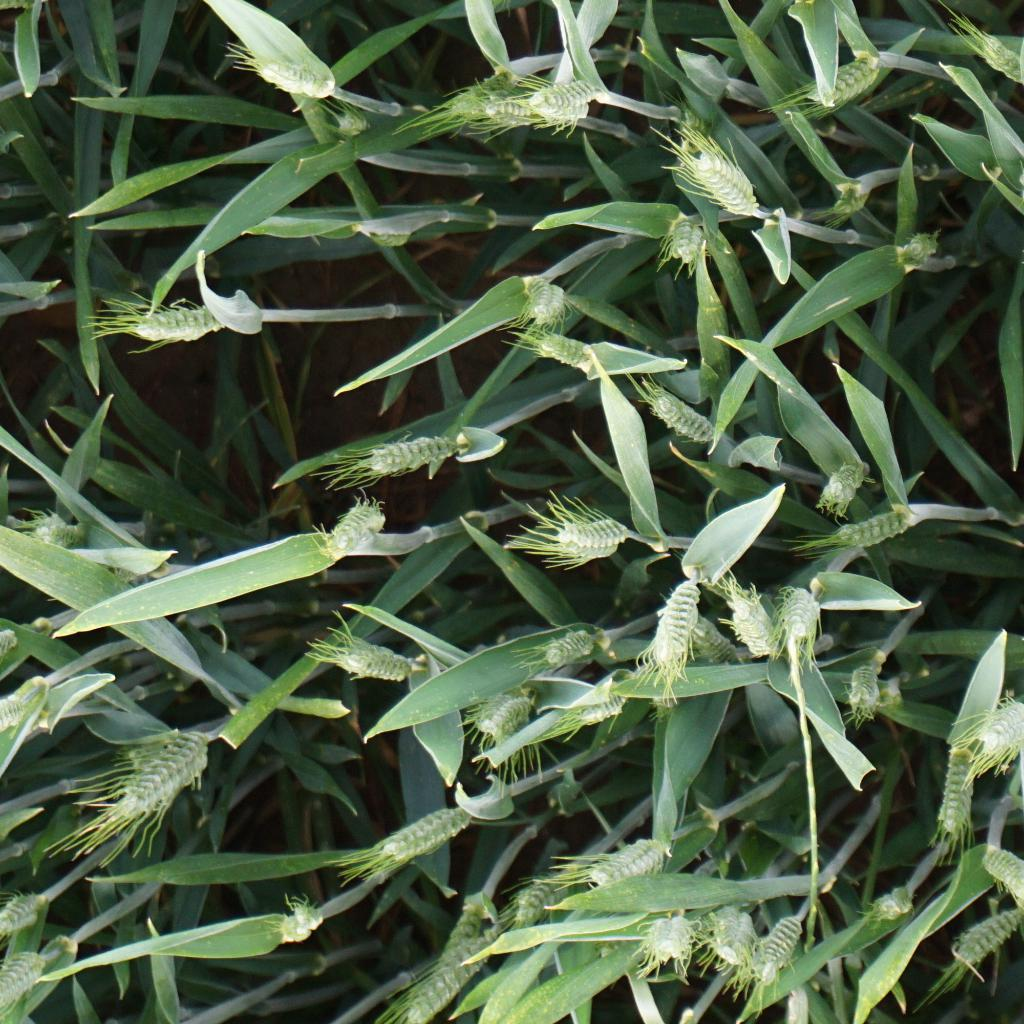0-0: (401, 919, 509, 1024), (103, 720, 206, 826), (673, 135, 770, 223), (233, 36, 343, 105), (800, 502, 945, 553), (352, 428, 478, 483), (438, 61, 532, 133), (113, 300, 249, 348), (381, 803, 482, 867), (650, 574, 703, 684), (795, 54, 887, 115), (636, 384, 725, 447), (507, 323, 607, 374), (327, 632, 422, 683), (464, 92, 571, 137), (585, 838, 674, 891), (322, 497, 396, 560), (726, 581, 782, 662), (806, 456, 877, 519), (517, 863, 576, 931), (936, 725, 970, 841), (956, 909, 1024, 966), (438, 891, 484, 974), (0, 949, 56, 1016), (658, 210, 712, 278), (710, 902, 760, 975), (966, 702, 1023, 763), (961, 28, 1024, 82), (759, 913, 805, 985), (472, 680, 529, 738), (530, 73, 606, 115), (509, 271, 567, 326), (547, 515, 636, 549), (894, 224, 954, 272), (977, 842, 1024, 902), (777, 589, 826, 646), (570, 681, 630, 726), (26, 506, 88, 549), (543, 529, 623, 561), (546, 623, 598, 667), (827, 180, 880, 223), (278, 900, 326, 947), (648, 918, 694, 967), (0, 889, 46, 936), (0, 688, 35, 745), (976, 519, 1014, 568), (849, 660, 879, 720), (324, 107, 371, 139), (868, 888, 911, 921)
